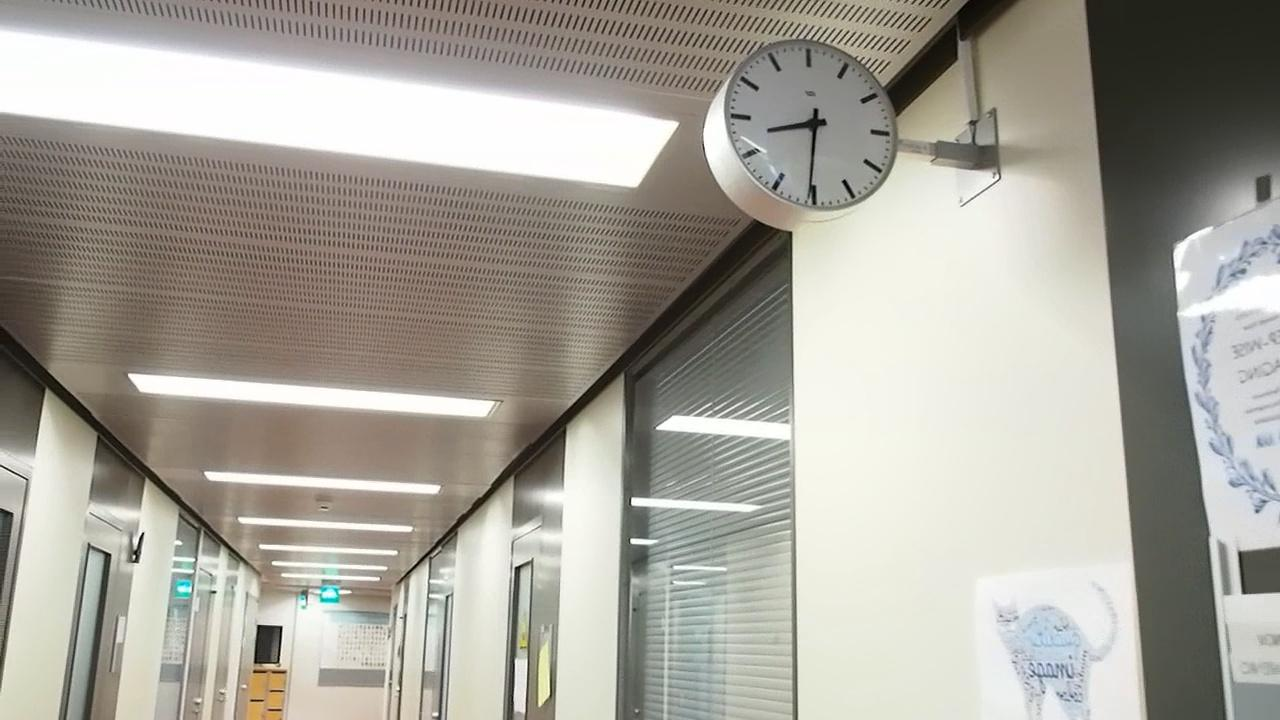clock: (706, 30, 910, 219)
